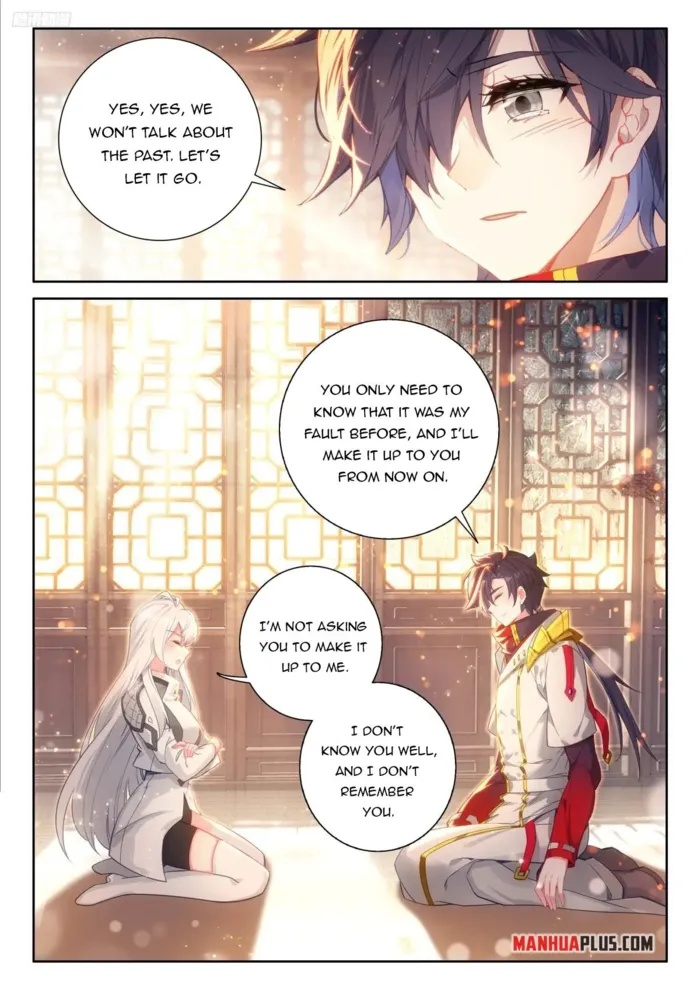bubbles: (210, 557, 476, 863), (268, 315, 539, 556), (48, 36, 300, 246)
